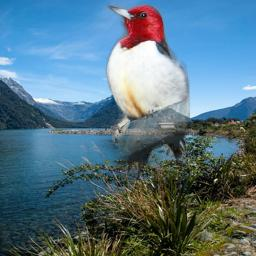Woodpecker: (102, 4, 193, 186)
